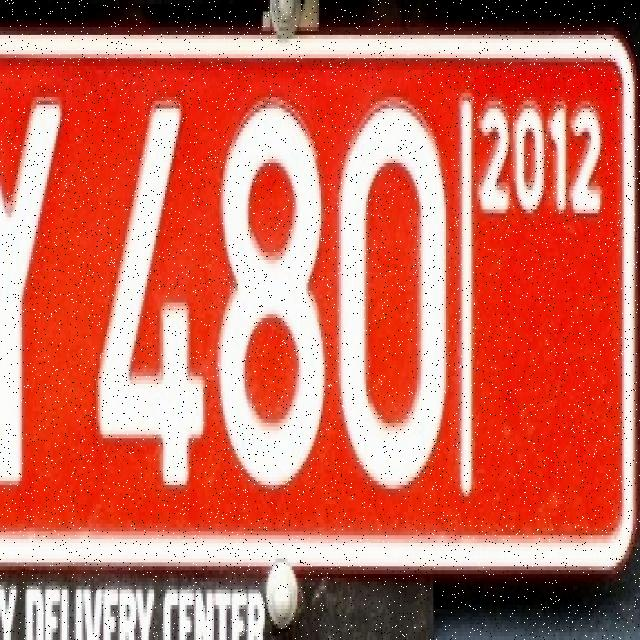licenseplate: (0, 33, 640, 574)
